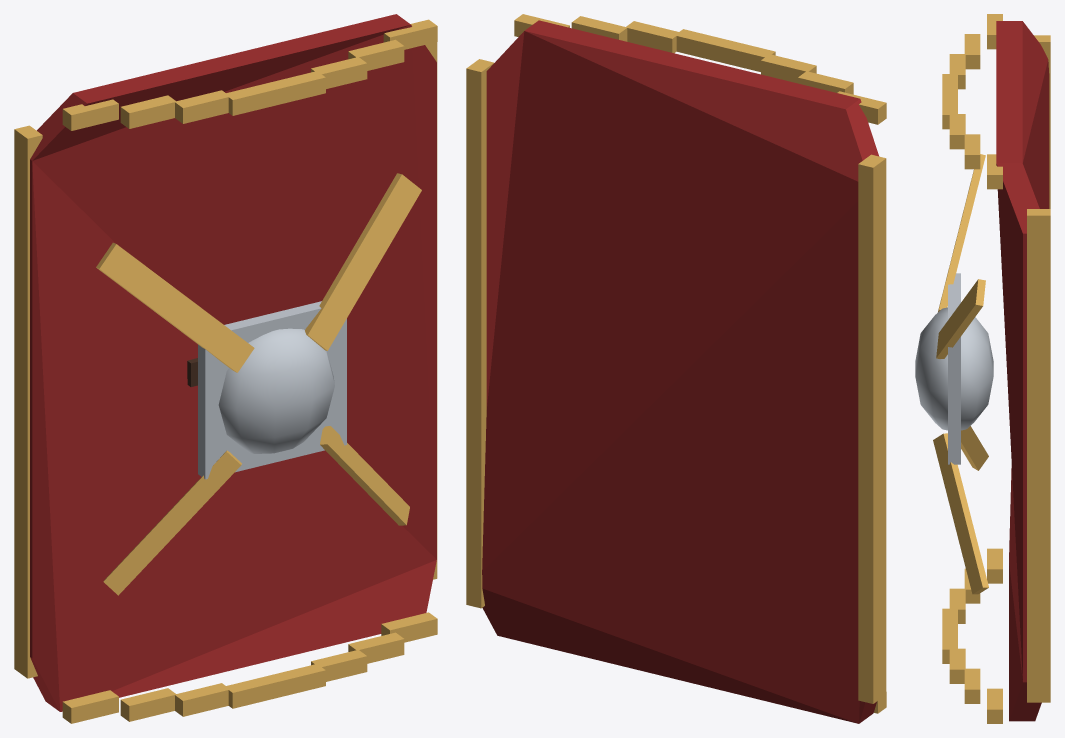
File: roman-shield.glb
The picture shows the model from 3 angles, left to right: view 1: azimuth 30°, elevation 25°; view 2: azimuth 150°, elevation 25°; view 3: azimuth 270°, elevation 25°; orthographic projection. The views are drawn at different scales.
Parts seen in each view (by area): view 1: CurvedScutum, Rim (×16), ShieldBoss, SideRim-1, BossPlate, Wing1, Wing-1, Bolt-1, Bolt1, SideRim1; view 2: CurvedScutum, SideRim-1, SideRim1, Rim (×6); view 3: CurvedScutum, SideRim1, Rim (×16), ShieldBoss, Bolt1, BossPlate, Wing1, Wing-1, Bolt-1, SideRim-1.
Part boxes in pixels (box(x1,y1,x2,y2)): CurvedScutum: box(30, 14, 436, 711); Rim (×16): box(62, 19, 437, 723); ShieldBoss: box(218, 328, 334, 453); SideRim-1: box(14, 125, 42, 678); BossPlate: box(198, 301, 346, 479); Wing1: box(305, 173, 421, 350); Wing-1: box(96, 242, 254, 372); Bolt-1: box(103, 450, 241, 595); Bolt1: box(320, 426, 409, 525); SideRim1: box(425, 42, 437, 579); CurvedScutum: box(482, 20, 879, 723); SideRim-1: box(858, 154, 886, 703); SideRim1: box(466, 59, 493, 608); Rim (×6): box(571, 16, 853, 94); CurvedScutum: box(996, 21, 1049, 721); SideRim1: box(1027, 209, 1050, 702); Rim (×16): box(942, 14, 1002, 723); ShieldBoss: box(915, 307, 993, 430); Bolt1: box(933, 433, 988, 594); BossPlate: box(948, 273, 960, 464); Wing1: box(936, 279, 985, 358); Wing-1: box(938, 154, 985, 311); Bolt-1: box(961, 426, 988, 470); SideRim-1: box(1034, 35, 1050, 208).
Size of the model in its own units: 0.81 by 1.15 by 0.2567.
